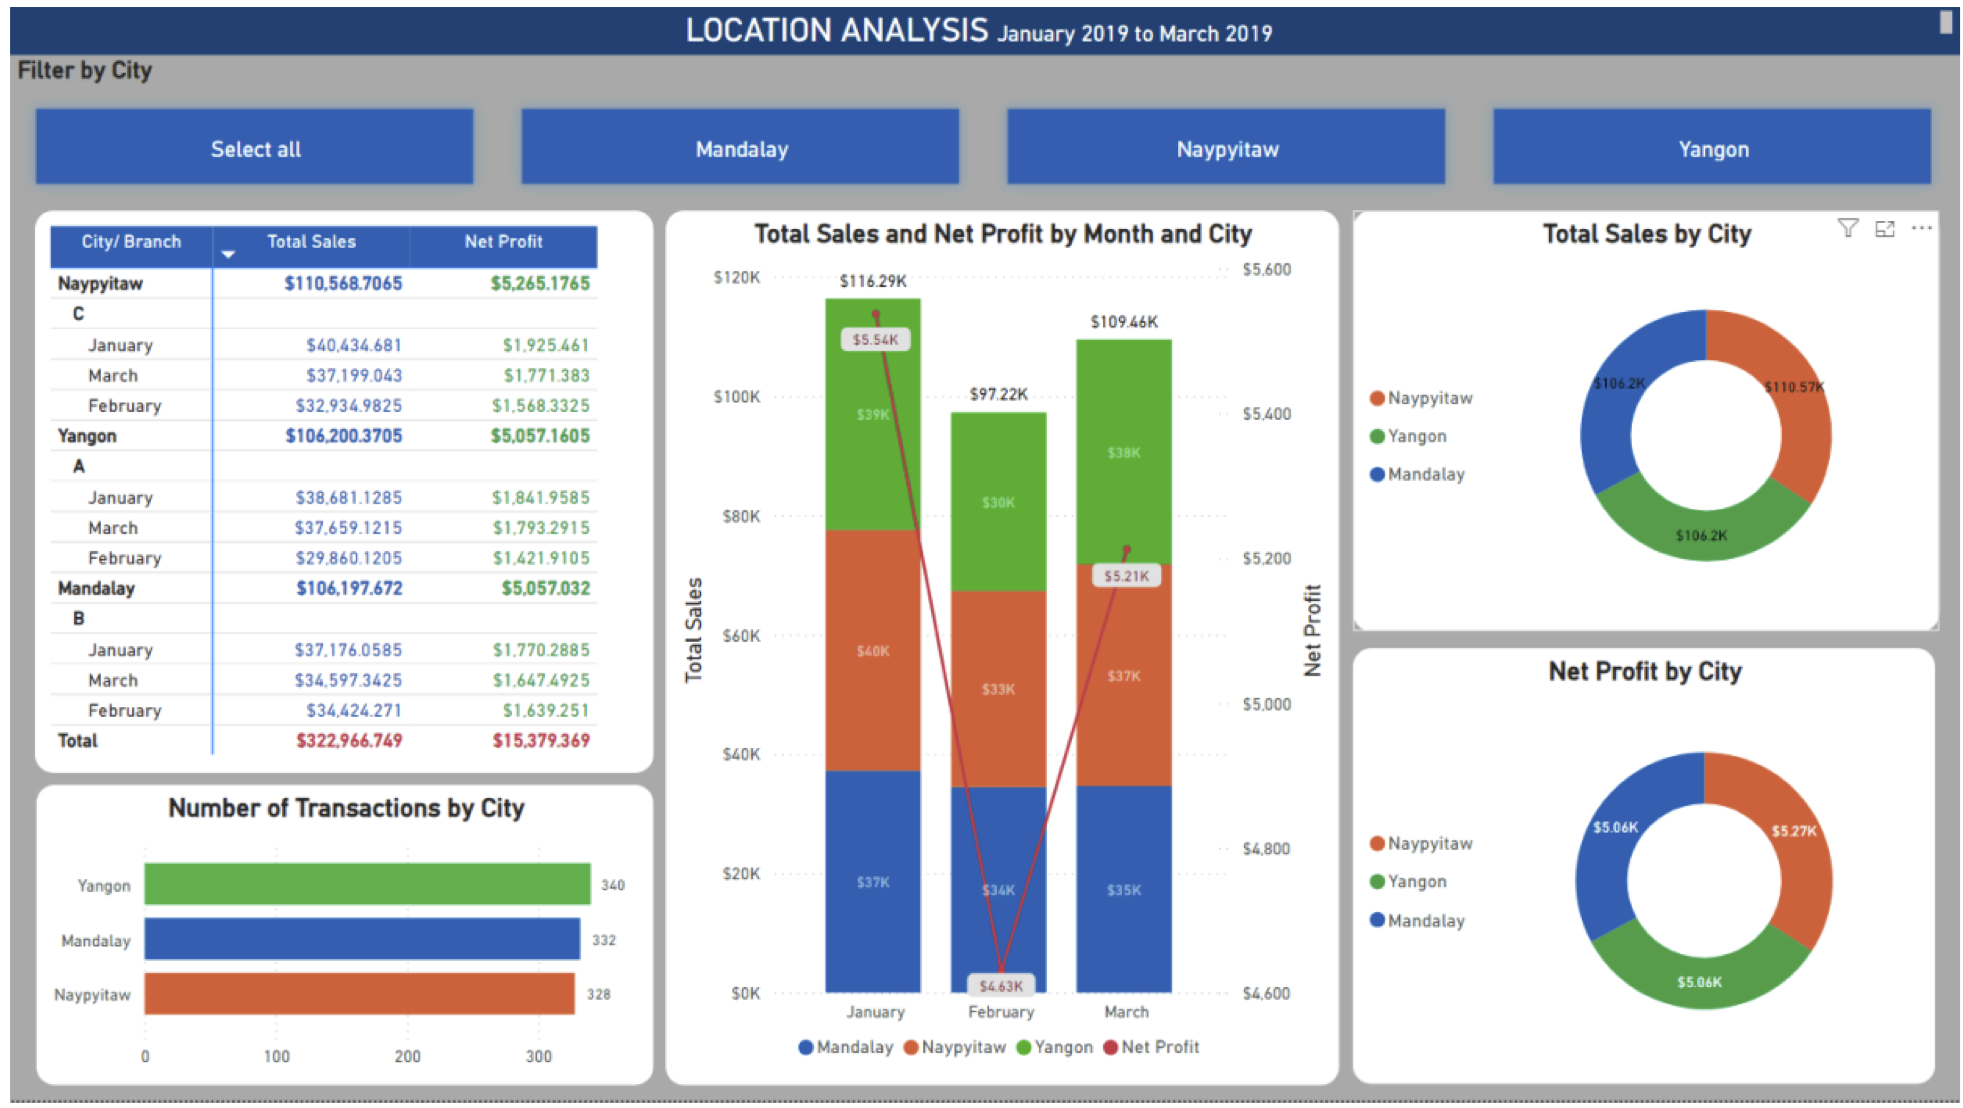

This screenshot's page, from the dashboard's own definition file:
{"tool":"powerbi","page":{"name":"Location Analysis","canvas":[1280,720],"ordinal":1},"visuals":[{"type":"textbox","box":[0,0,1280,33.8],"z":0},{"type":"lineStackedColumnComboChart","fields":{"Category":["Sales.Date.Variation.Date Hierarchy.Month"],"Y":["Sales.Total Sales"],"Y2":["Sales.Net Profit"],"Series":["City.City"]},"box":[430.4,136.3,441.6,573.6],"z":1000},{"type":"pivotTable","title":"Detailed Total Sales and Profit by Month and City","fields":{"Rows":["City.City","Sales.Branch","Sales.Date.Variation.Date Hierarchy.Month"],"Values":["Sales.Total Sales","Sales.Net Profit"]},"box":[16.4,136.3,406.3,369.2],"z":2000},{"type":"advancedSlicerVisual","title":"Filter by City","fields":{"Values":["Sales.City"]},"box":[0,34.3,1280,101.4],"z":3000},{"type":"donutChart","fields":{"Category":["City.City"],"Y":["Sales.Net Profit"]},"box":[881.5,423.5,382.1,286.4],"z":4000},{"type":"donutChart","fields":{"Category":["City.City"],"Y":["Sales.Total Sales"]},"box":[881.5,136.3,384.7,276],"z":5000},{"type":"stackedAreaChart","fields":{"Category":["Sales.Date.Variation.Date Hierarchy.Day"],"Y":["Sales.Total Sales"],"Series":["City.City"]},"box":[17.3,513.2,405.4,196.7],"z":6000}]}

Visuals, with their boxes in screenshot pixels (x1, y1, x2, y2), scaled from the page's 1280x720 canvas onto the 1963x1108 screenshot:
textbox: box=[0, 0, 1962, 52]
lineStackedColumnComboChart - Sales.Date.Variation.Date Hierarchy.Month x Sales.Total Sales: box=[660, 210, 1337, 1092]
"Detailed Total Sales and Profit by Month and City" pivotTable: box=[25, 210, 648, 778]
"Filter by City" advancedSlicerVisual: box=[0, 53, 1962, 209]
donutChart - City.City x Sales.Net Profit: box=[1352, 652, 1938, 1092]
donutChart - City.City x Sales.Total Sales: box=[1352, 210, 1942, 634]
stackedAreaChart - Sales.Date.Variation.Date Hierarchy.Day x Sales.Total Sales: box=[27, 790, 648, 1092]
